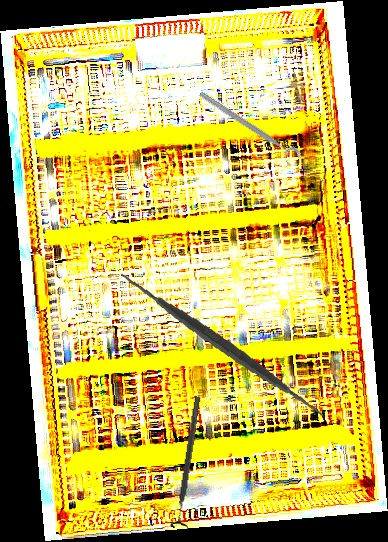Fixation Ring: (193, 88, 304, 169), (168, 395, 209, 530)
Spatula Surgical: (120, 243, 326, 449)
